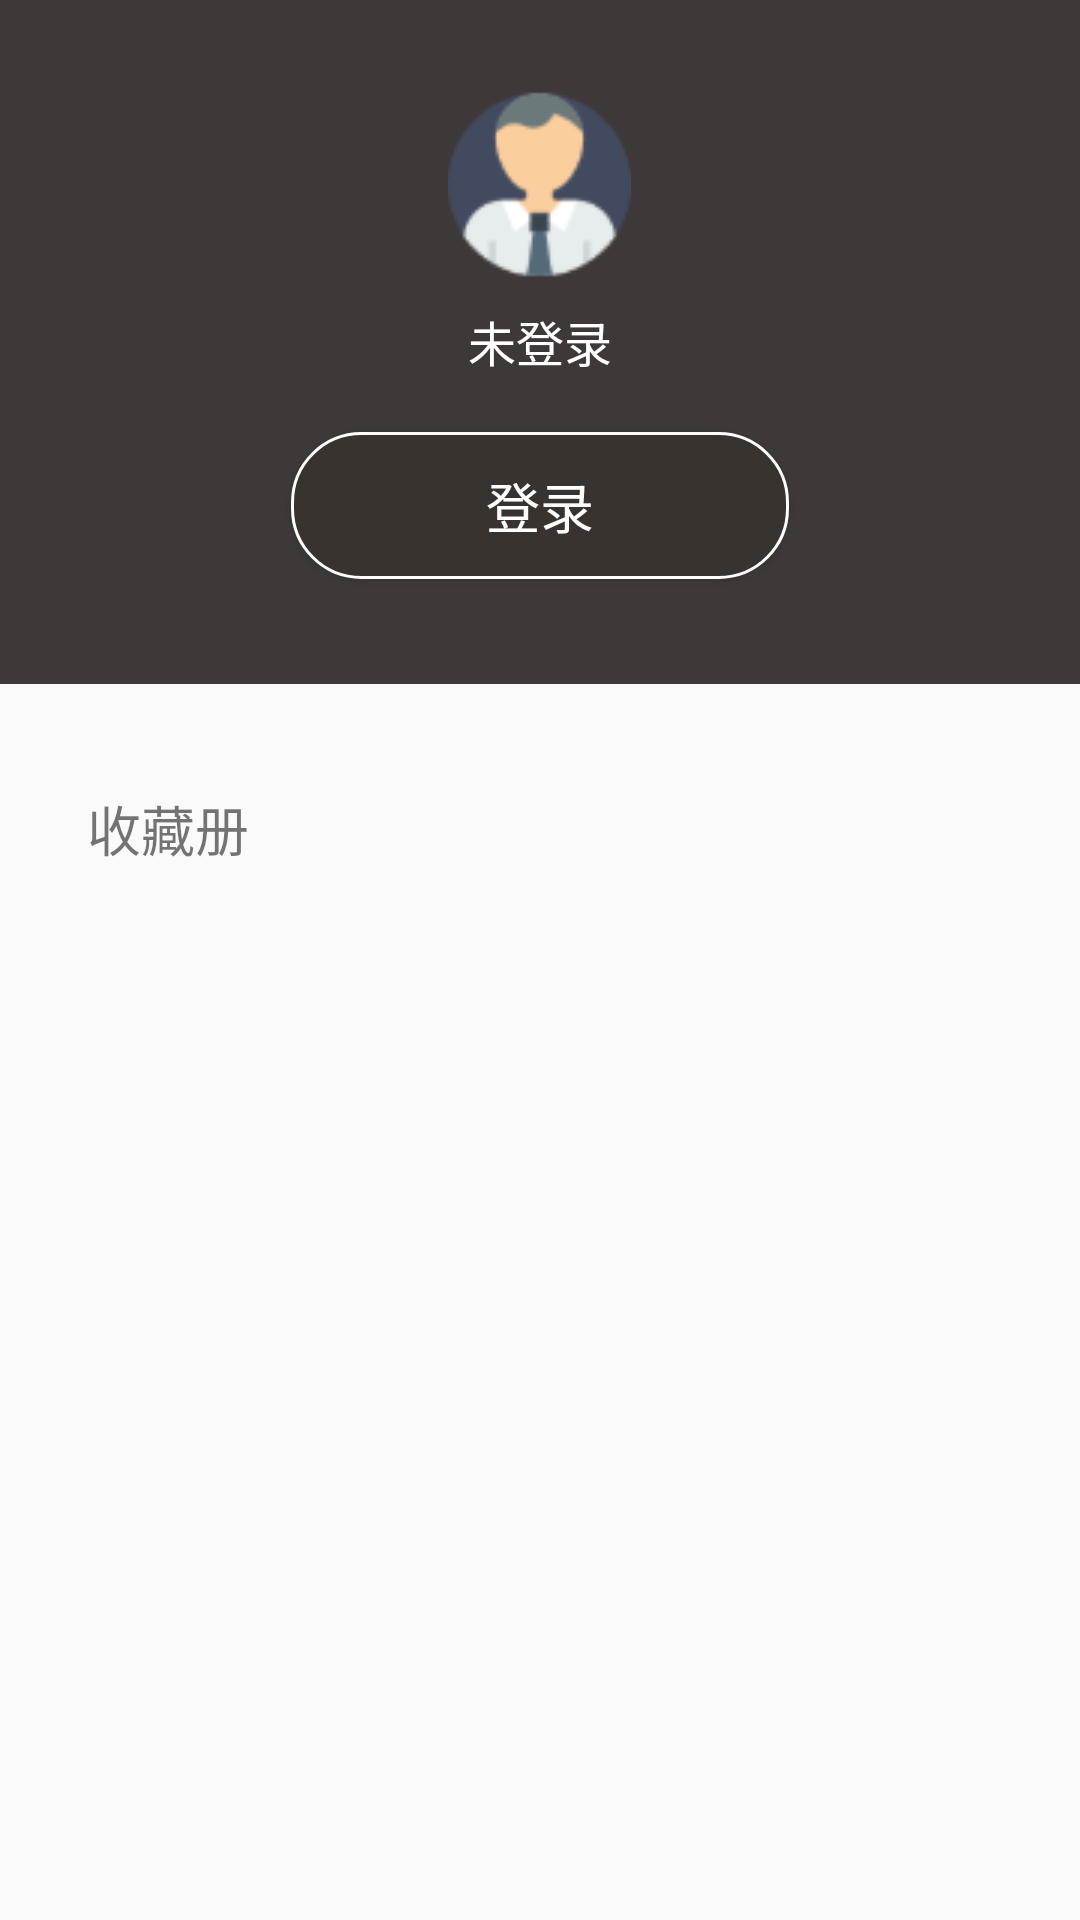

Icons on this 1080 x 1920 Android screen, each with its box as bbox=[x1, y1, x2, y2]:
mine profile: bbox=[448, 93, 631, 277]
